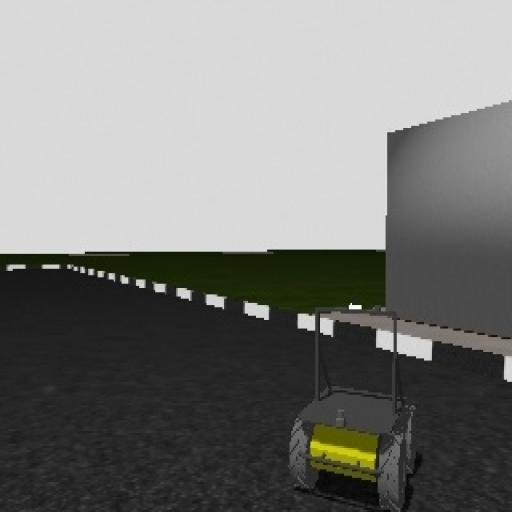huskya200: (275, 302, 433, 512)
